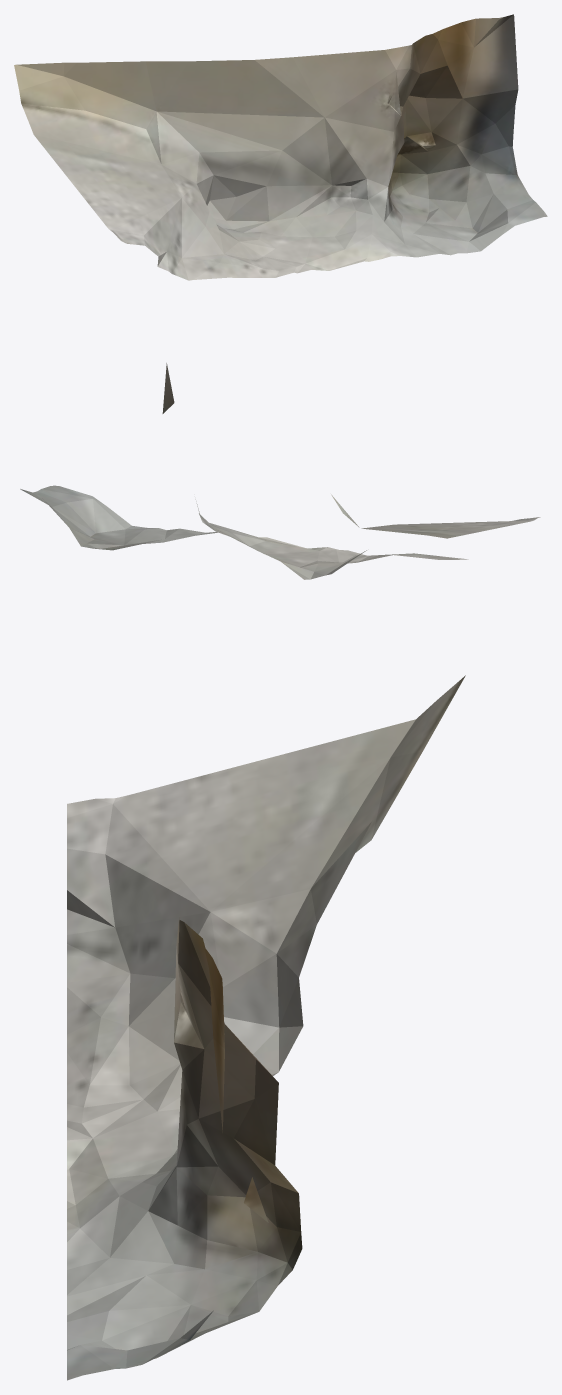
3 views of the same model, one above another, from view 1: azimuth 30°, elevation 25°; view 2: azimuth 150°, elevation 25°; view 3: azimuth 270°, elevation 25° (orthographic). The views are drawn at different scales.
Bounding box in the file's own units: 0.8374 × 0.3673 × 0.3633.
2 materials, 2 textured.
